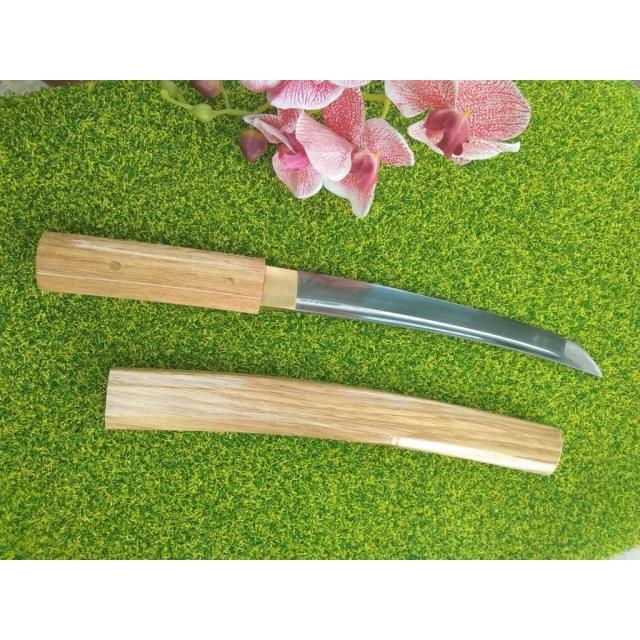short sword: (26, 213, 612, 502)
